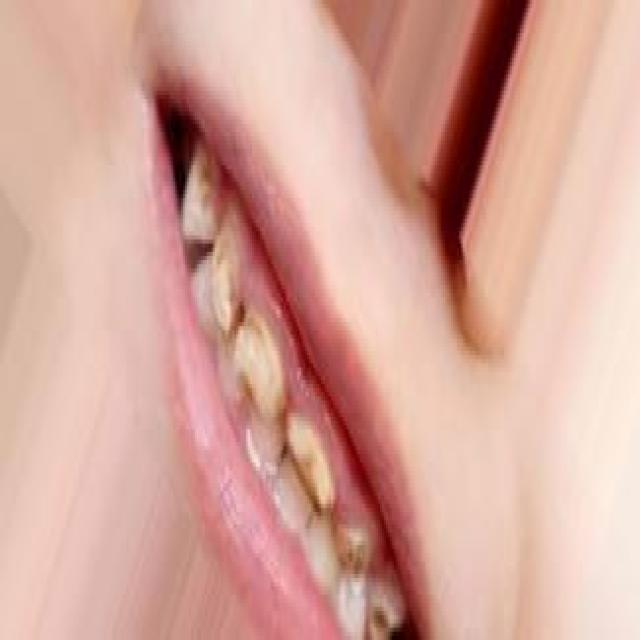caries: (233, 308, 287, 427), (286, 408, 334, 521), (208, 225, 243, 337), (335, 516, 367, 580), (365, 584, 396, 640)
